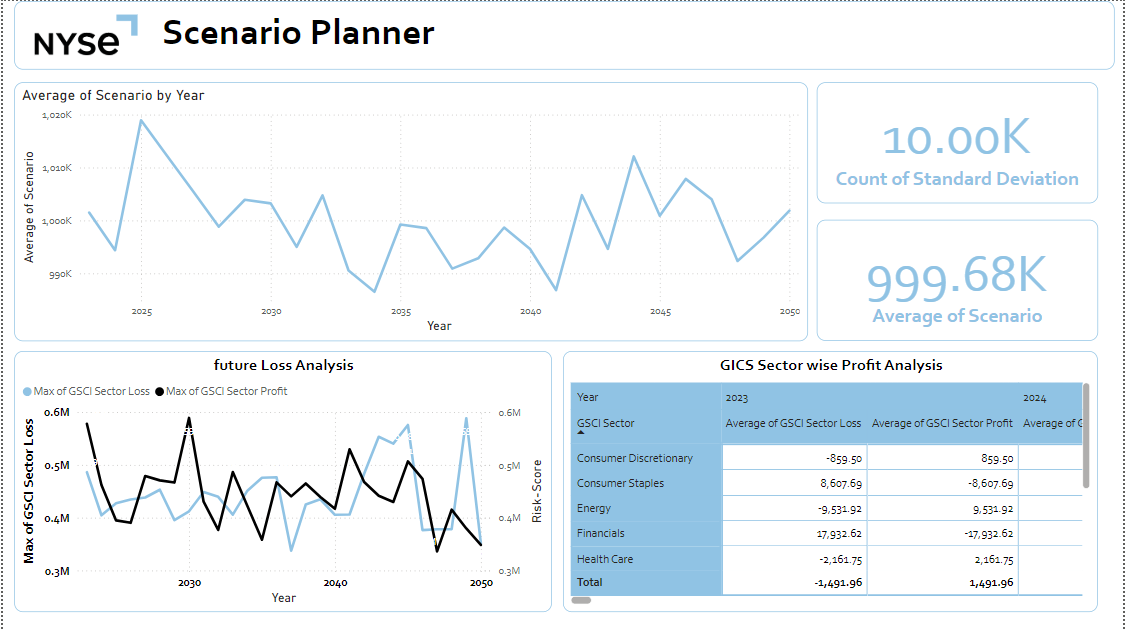

The page's visual inventory and layout, read from the dashboard file:
{"tool":"powerbi","page":{"name":"Scenario Planner","canvas":[1280,720],"ordinal":4},"visuals":[{"type":"card","fields":{"Values":["CountNonNull(monte_carlo_simulation_results.Standard Deviation)"]},"box":[930,92.9,321.4,138.6],"z":0},{"type":"card","fields":{"Values":["Avg(monte_carlo_simulation_results.Scenario)"]},"box":[930,250,321.4,138.6],"z":1000},{"type":"lineChart","title":"future Loss Analysis ","fields":{"Category":["monte_carlo_simulation_results.Date.Variation.Date Hierarchy.Year"],"Y":["Max(monte_carlo_simulation_results.GSCI Sector Loss)"],"Y2":["Max(monte_carlo_simulation_results.GSCI Sector Profit)"]},"box":[12.9,400,614.3,298.6],"z":2000},{"type":"group","id":"g1","title":"Group 1","box":[12.5,0,1257.5,78.8],"z":3000},{"type":"textbox","box":[12.5,0,1257.5,78.8],"z":4000,"group":"g1"},{"type":"lineChart","fields":{"Y":["Avg(monte_carlo_simulation_results.Scenario)"],"Category":["monte_carlo_simulation_results.Date.Variation.Date Hierarchy.Year"]},"box":[12.9,92.9,907.1,295.7],"z":4000},{"type":"pivotTable","title":"GICS Sector wise Profit Analysis","fields":{"Rows":["monte_carlo_simulation_results.GSCI Sector"],"Columns":["monte_carlo_simulation_results.Date.Variation.Date Hierarchy.Year"],"Values":["Avg(monte_carlo_simulation_results.GSCI Sector Loss)","Avg(monte_carlo_simulation_results.GSCI Sector Profit)"]},"box":[640,400,611.4,298.6],"z":5000},{"type":"image","box":[30.6,4.9,127.2,68.5],"z":8000,"group":"g1"}]}

Visuals, with their boxes in screenshot pixels (x1, y1, x2, y2), scaled from the page's 1280x720 canvas onto the 1142x630 screenshot:
card - CountNonNull(monte_carlo_simulation_results.Standard Deviation): 830,81,1116,203
card - Avg(monte_carlo_simulation_results.Scenario): 830,219,1116,340
"future Loss Analysis " lineChart: 12,350,560,611
"Group 1" group: 11,0,1133,69
textbox: 11,0,1133,69
lineChart - Avg(monte_carlo_simulation_results.Scenario) x monte_carlo_simulation_results.Date.Variation.Date Hierarchy.Year: 12,81,821,340
"GICS Sector wise Profit Analysis" pivotTable: 571,350,1116,611
image: 27,4,141,64
